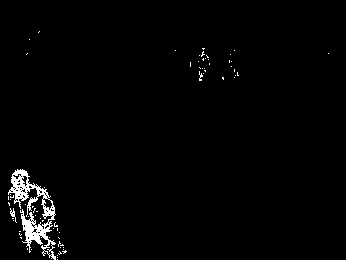person: (8, 168, 68, 260)
